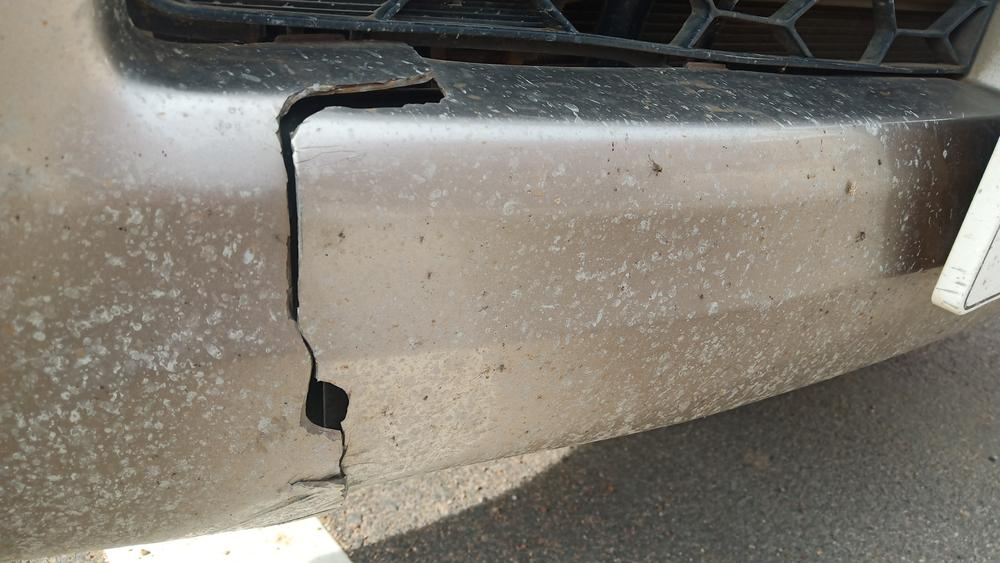crack: (276, 46, 446, 488)
